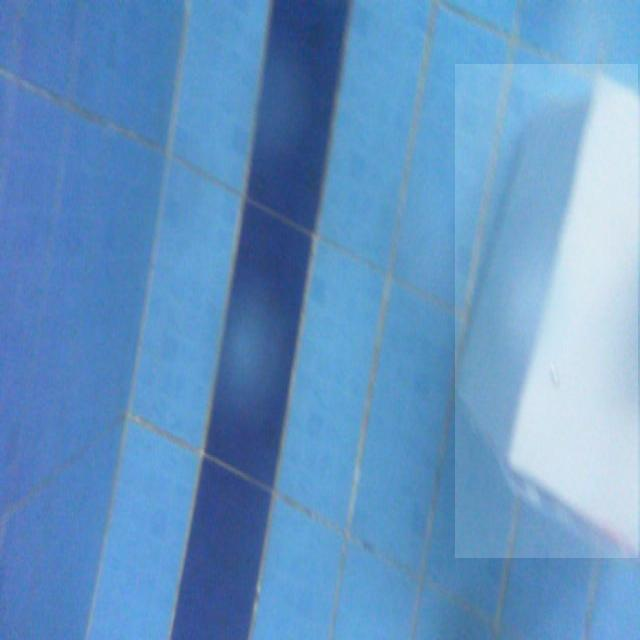Cube: (455, 64, 638, 558)
